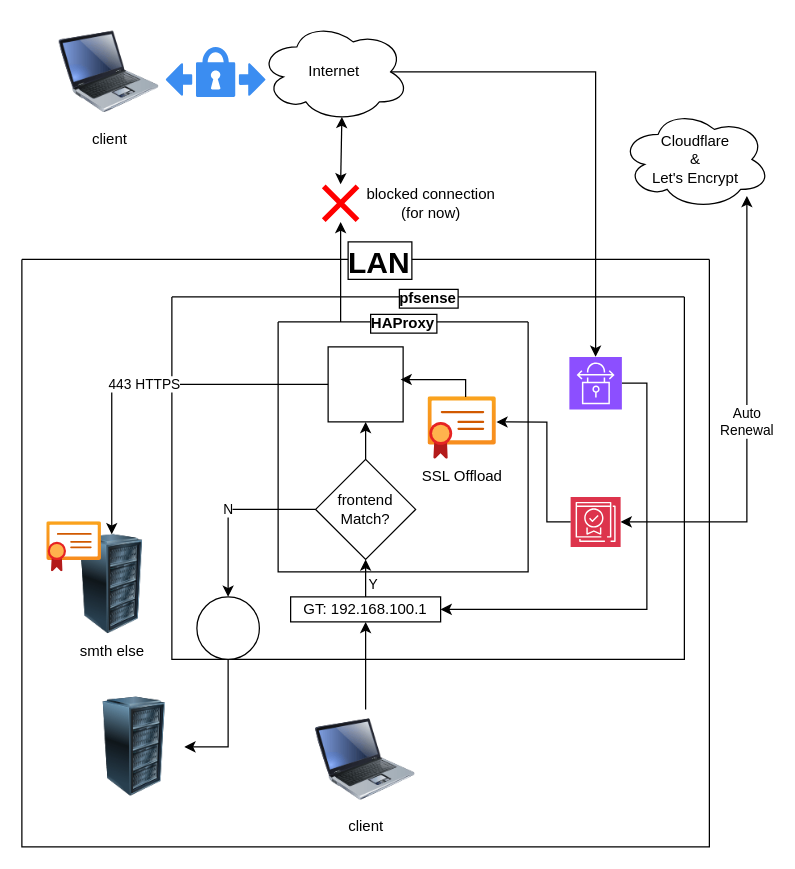
This 795x869 diagram has some shape labels left out. Here are the shapes that lost their labels. From the top down, the centre of each, then its label:
pixel 365 384: backend LB
pixel 595 382: S2S Tailscale
pixel 595 521: ACME
pixel 73 546: certified
pixel 227 627: route to LAN
pixel 134 746: smth
